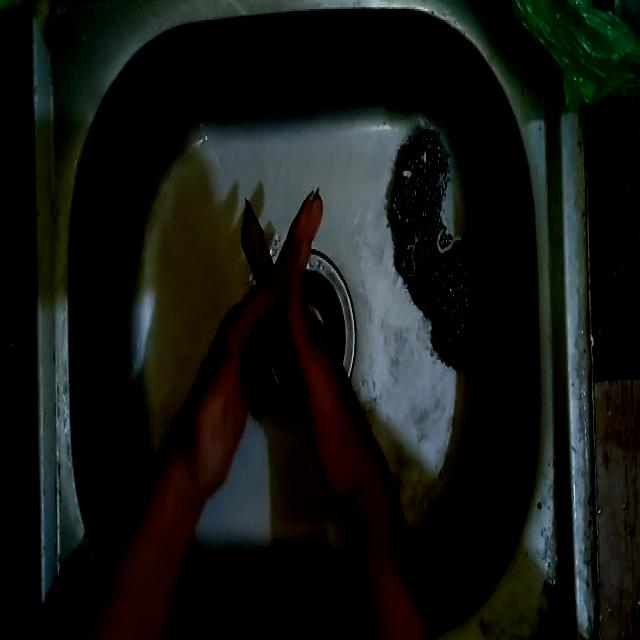step_3: (196, 180, 357, 522)
